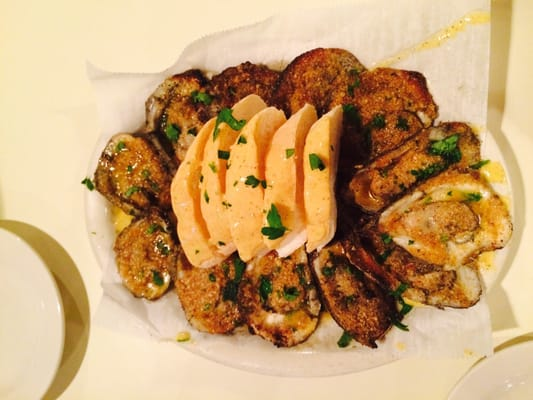curry: (1, 1, 518, 400)
